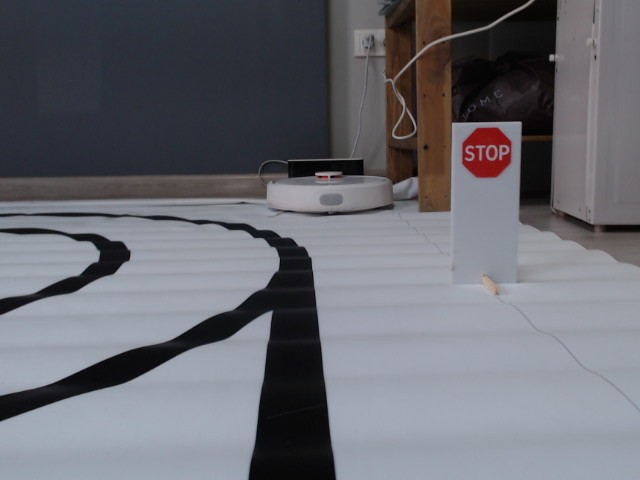Stop: (459, 124, 513, 177)
